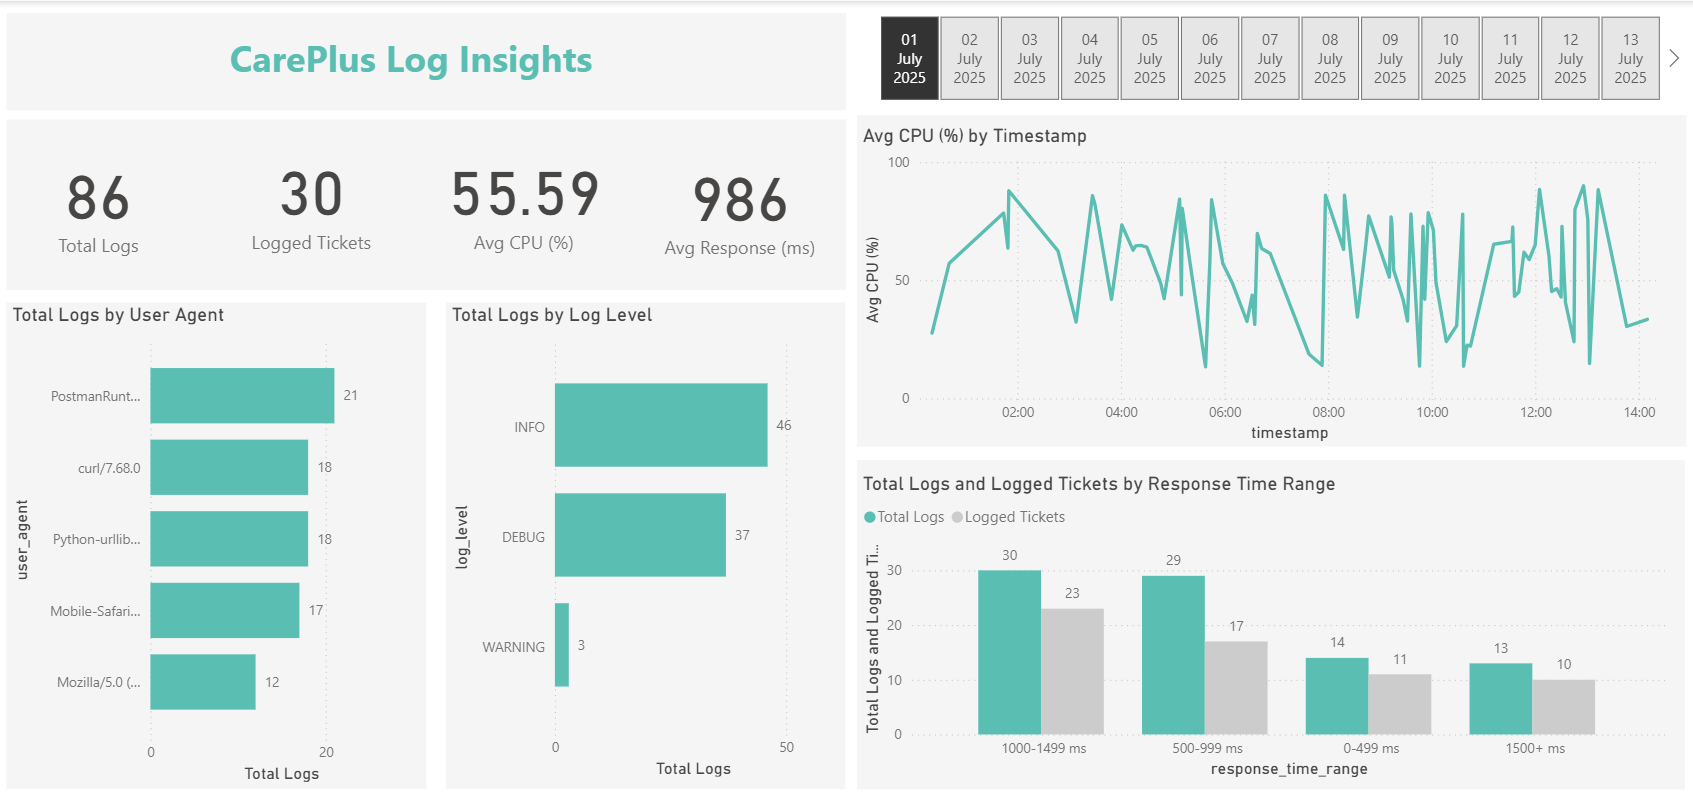

The page's visual inventory and layout, read from the dashboard file:
{"tool":"powerbi","page":{"name":"support_logs","canvas":[1500,720],"ordinal":1},"visuals":[{"type":"card","fields":{"Values":["key_measures.Total Logs"]},"box":[15.1,116.3,146.1,121.3],"z":1000},{"type":"card","fields":{"Values":["key_measures.Logged Tickets"]},"box":[204.3,114,143.2,119.8],"z":2000},{"type":"card","fields":{"Values":["key_measures.Avg CPU (%)"]},"box":[390.7,114,147.6,119.8],"z":3000},{"type":"card","fields":{"Values":["key_measures.Avg Response (ms)"]},"box":[581.4,117.8,147.6,121.3],"z":4000},{"type":"lineChart","title":"Avg CPU (%) by Timestamp","fields":{"Category":["support_logs.timestamp"],"Y":["key_measures.Avg CPU (%)"]},"box":[759.6,108.7,718.8,285.4],"z":5000},{"type":"slicer","fields":{"Values":["dim_date.date"]},"box":[759.6,6,733.9,87.6],"z":6000},{"type":"clusteredBarChart","title":"Total Logs by Log Level","fields":{"Category":["support_logs.log_level"],"Y":["key_measures.Total Logs"]},"box":[395.6,267.3,353.4,424.3],"z":7000},{"type":"clusteredBarChart","title":"Total Logs by User Agent","fields":{"Category":["support_logs.user_agent"],"Y":["key_measures.Total Logs"]},"box":[6,267.3,371.5,428.9],"z":8000},{"type":"clusteredColumnChart","title":"Total Logs and Logged Tickets by Response Time Range","fields":{"Category":["support_logs.response_time_range"],"Y":["key_measures.Total Logs","key_measures.Logged Tickets"]},"box":[759.6,416.8,720.3,274.8],"z":9000},{"type":"textbox","box":[199.3,22.7,356.4,61.9],"z":10000},{"type":"shape","box":[6,104.2,743,151],"z":11000},{"type":"shape","box":[758.9,100.8,733.7,293.2],"z":12000},{"type":"shape","box":[759.6,406.2,732.4,291.4],"z":13000},{"type":"shape","box":[6,267.3,371.5,430.4],"z":14000},{"type":"shape","box":[395.6,267.3,353.4,430.4],"z":15000},{"type":"shape","box":[6,10.6,743,86.1],"z":15500}]}

Visuals, with their boxes in screenshot pixels (x1, y1, x2, y2), scaled from the page's 1500x720 canvas onto the 1693x808 screenshot:
card - key_measures.Total Logs: Rect(17, 131, 182, 267)
card - key_measures.Logged Tickets: Rect(231, 128, 392, 262)
card - key_measures.Avg CPU (%): Rect(441, 128, 608, 262)
card - key_measures.Avg Response (ms): Rect(656, 132, 823, 268)
"Avg CPU (%) by Timestamp" lineChart: Rect(857, 122, 1669, 442)
slicer - dim_date.date: Rect(857, 7, 1686, 105)
"Total Logs by Log Level" clusteredBarChart: Rect(447, 300, 845, 776)
"Total Logs by User Agent" clusteredBarChart: Rect(7, 300, 426, 781)
"Total Logs and Logged Tickets by Response Time Range" clusteredColumnChart: Rect(857, 468, 1670, 776)
textbox: Rect(225, 25, 627, 95)
shape: Rect(7, 117, 845, 286)
shape: Rect(857, 113, 1685, 442)
shape: Rect(857, 456, 1684, 783)
shape: Rect(7, 300, 426, 783)
shape: Rect(447, 300, 845, 783)
shape: Rect(7, 12, 845, 109)
